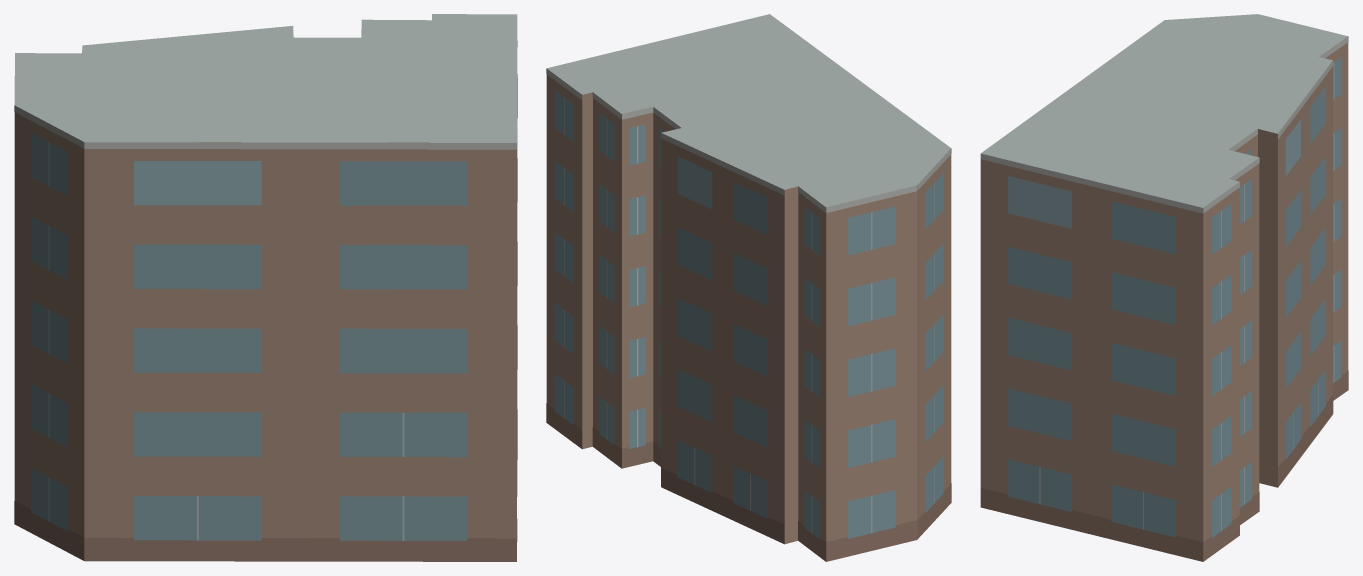
File: survey-upis-33026998.glb
3 views of the same model, side by side, from view 1: azimuth 30°, elevation 25°; view 2: azimuth 150°, elevation 25°; view 3: azimuth 270°, elevation 25° (orthographic). The views are drawn at different scales.
Visible parts, largest first — view 1: survey-upis-33026998.tmp; view 2: survey-upis-33026998.tmp; view 3: survey-upis-33026998.tmp.
Part boxes in pixels (bbox=[...]): survey-upis-33026998.tmp: bbox=[14, 14, 517, 561]; survey-upis-33026998.tmp: bbox=[546, 14, 951, 561]; survey-upis-33026998.tmp: bbox=[980, 14, 1348, 561].
Size of the model in its own units: 17.93 by 15.25 by 14.37.
